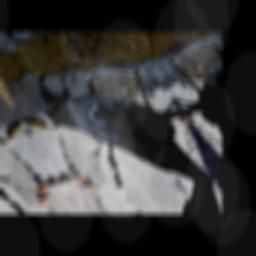Crow: (27, 54, 221, 207)
